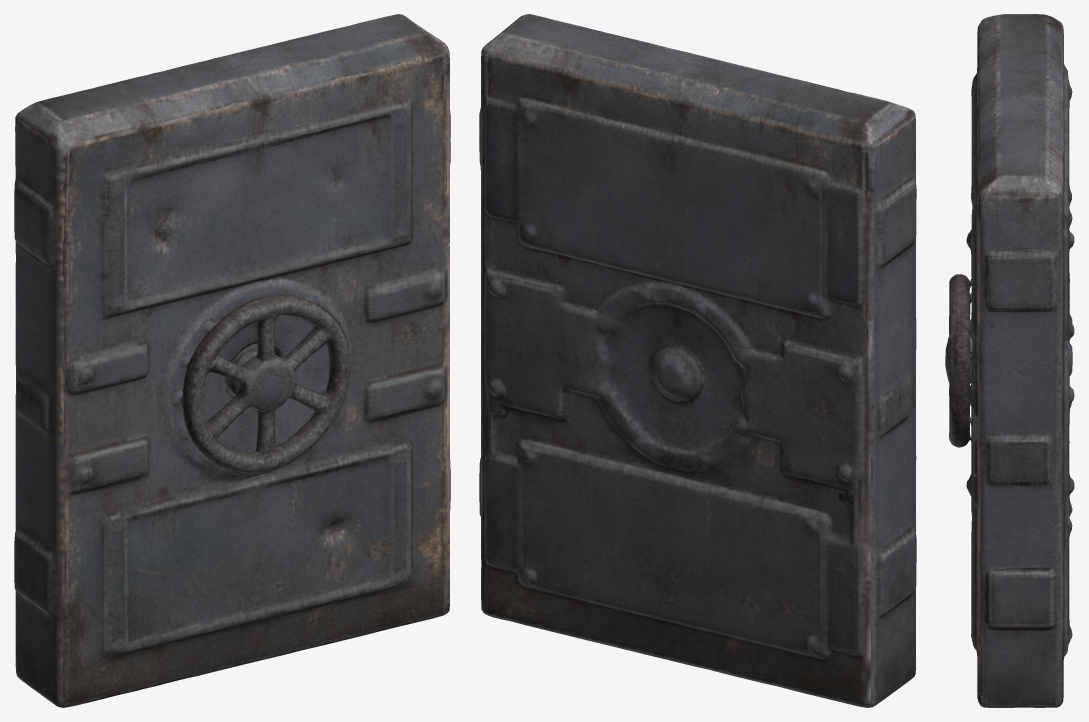
Rendered from raw.glb.
3 views of the same model, side by side, from view 1: azimuth 30°, elevation 25°; view 2: azimuth 150°, elevation 25°; view 3: azimuth 270°, elevation 25° (orthographic). The views are drawn at different scales.
Size of the model in its own units: 0.7375 by 1.01 by 0.2236.
Materials: 1 (1 with a texture image).
